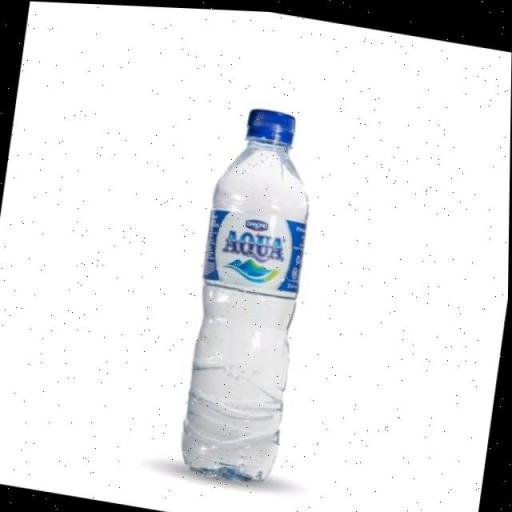plastic: (164, 89, 334, 493)
